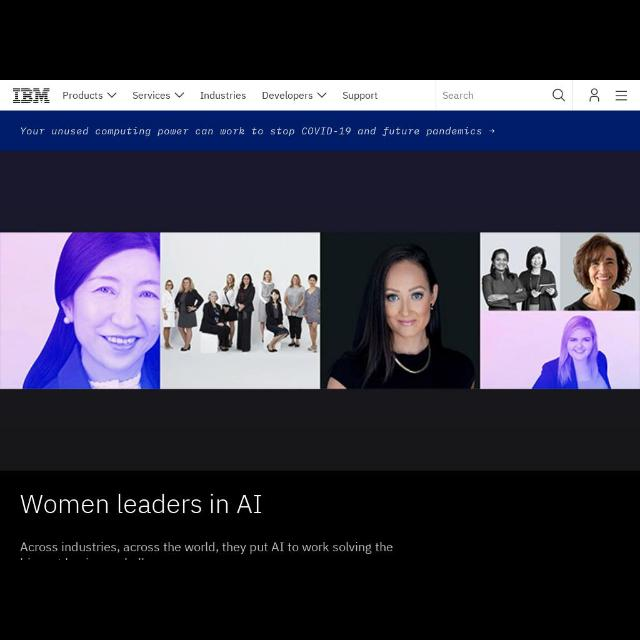icon: (552, 88, 566, 102), (590, 88, 598, 102), (617, 90, 627, 100), (317, 92, 327, 100), (106, 92, 115, 98), (176, 93, 184, 99), (488, 128, 496, 134)
image: (1, 232, 639, 388), (12, 88, 50, 102)
input: (436, 83, 572, 111)
spinner: (262, 90, 326, 102), (62, 90, 116, 104), (133, 90, 185, 104)
text: (21, 125, 482, 137), (19, 493, 263, 515), (21, 540, 393, 554), (262, 92, 312, 101), (132, 91, 170, 101), (199, 92, 245, 100), (342, 91, 378, 101), (61, 92, 102, 100), (443, 92, 473, 100)
toolbar: (1, 81, 639, 111)
